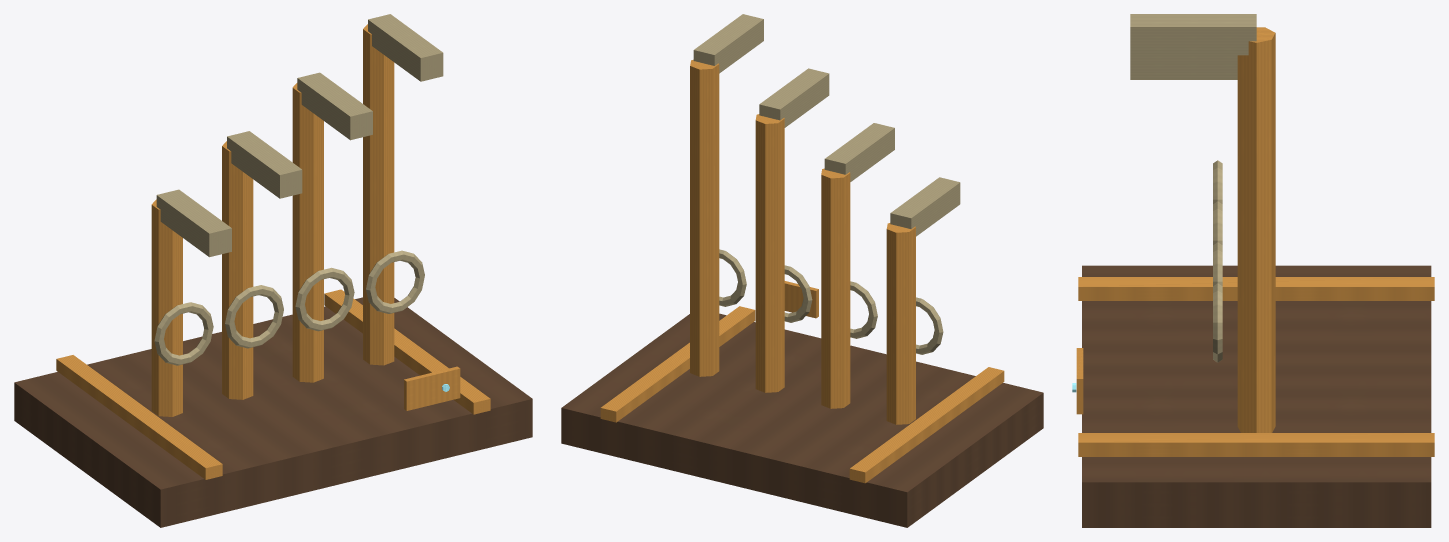
Rendered from atlas100-s019-a01.lod1.glb.
3 renders of one model, left to right at view 1: azimuth 30°, elevation 25°; view 2: azimuth 150°, elevation 25°; view 3: azimuth 270°, elevation 25°, orthographic. The views are drawn at different scales.
Parts seen in each view (by area): view 1: atlas100-s019-a01:part-000, atlas100-s019-a01:part-012, atlas100-s019-a01:part-009, atlas100-s019-a01:part-006, atlas100-s019-a01:part-003, atlas100-s019-a01:part-001, atlas100-s019-a01:part-011, atlas100-s019-a01:part-014, atlas100-s019-a01:part-005, atlas100-s019-a01:part-008, atlas100-s019-a01:part-002, atlas100-s019-a01:part-015 (+4 smaller); view 2: atlas100-s019-a01:part-000, atlas100-s019-a01:part-012, atlas100-s019-a01:part-009, atlas100-s019-a01:part-006, atlas100-s019-a01:part-003, atlas100-s019-a01:part-001, atlas100-s019-a01:part-002, atlas100-s019-a01:part-011, atlas100-s019-a01:part-008, atlas100-s019-a01:part-014, atlas100-s019-a01:part-005, atlas100-s019-a01:part-015 (+4 smaller); view 3: atlas100-s019-a01:part-000, atlas100-s019-a01:part-012, atlas100-s019-a01:part-002, atlas100-s019-a01:part-001, atlas100-s019-a01:part-014, atlas100-s019-a01:part-005, atlas100-s019-a01:part-008, atlas100-s019-a01:part-011, atlas100-s019-a01:part-013, atlas100-s019-a01:part-015.
Part boxes in pixels (bbox=[...]): atlas100-s019-a01:part-000: bbox=[14, 297, 532, 527]; atlas100-s019-a01:part-012: bbox=[363, 24, 394, 365]; atlas100-s019-a01:part-009: bbox=[292, 83, 323, 382]; atlas100-s019-a01:part-006: bbox=[222, 141, 253, 399]; atlas100-s019-a01:part-003: bbox=[151, 199, 182, 416]; atlas100-s019-a01:part-001: bbox=[56, 355, 222, 479]; atlas100-s019-a01:part-011: bbox=[297, 72, 372, 140]; atlas100-s019-a01:part-014: bbox=[368, 14, 443, 81]; atlas100-s019-a01:part-005: bbox=[156, 189, 231, 257]; atlas100-s019-a01:part-008: bbox=[227, 131, 302, 198]; atlas100-s019-a01:part-002: bbox=[324, 289, 490, 414]; atlas100-s019-a01:part-015: bbox=[404, 366, 460, 410]; atlas100-s019-a01:part-000: bbox=[561, 313, 1043, 527]; atlas100-s019-a01:part-012: bbox=[690, 59, 719, 376]; atlas100-s019-a01:part-009: bbox=[755, 114, 784, 392]; atlas100-s019-a01:part-006: bbox=[821, 168, 850, 408]; atlas100-s019-a01:part-003: bbox=[886, 223, 915, 424]; atlas100-s019-a01:part-001: bbox=[849, 367, 1004, 483]; atlas100-s019-a01:part-002: bbox=[600, 306, 755, 422]; atlas100-s019-a01:part-011: bbox=[759, 68, 829, 127]; atlas100-s019-a01:part-008: bbox=[824, 123, 894, 181]; atlas100-s019-a01:part-014: bbox=[693, 14, 763, 73]; atlas100-s019-a01:part-005: bbox=[890, 177, 960, 236]; atlas100-s019-a01:part-015: bbox=[784, 281, 818, 318]; atlas100-s019-a01:part-000: bbox=[1082, 265, 1431, 527]; atlas100-s019-a01:part-012: bbox=[1237, 27, 1275, 432]; atlas100-s019-a01:part-002: bbox=[1078, 433, 1434, 456]; atlas100-s019-a01:part-001: bbox=[1078, 277, 1434, 300]; atlas100-s019-a01:part-014: bbox=[1130, 14, 1256, 55]; atlas100-s019-a01:part-005: bbox=[1130, 71, 1237, 79]; atlas100-s019-a01:part-008: bbox=[1130, 63, 1237, 71]; atlas100-s019-a01:part-011: bbox=[1130, 55, 1237, 63]; atlas100-s019-a01:part-013: bbox=[1213, 283, 1222, 362]; atlas100-s019-a01:part-015: bbox=[1076, 348, 1083, 414].
Bounding box in the file's own units: 2.64 × 2.62 × 1.87.
4 materials, 4 textured.
